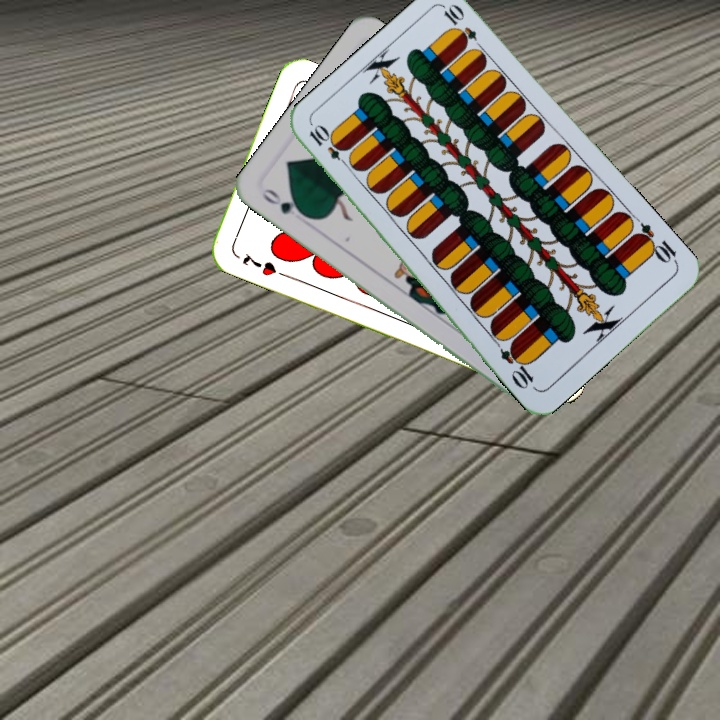E10: (305, 121, 354, 171), (630, 219, 681, 267)
GO: (257, 184, 311, 221)
H7: (238, 248, 279, 279)
